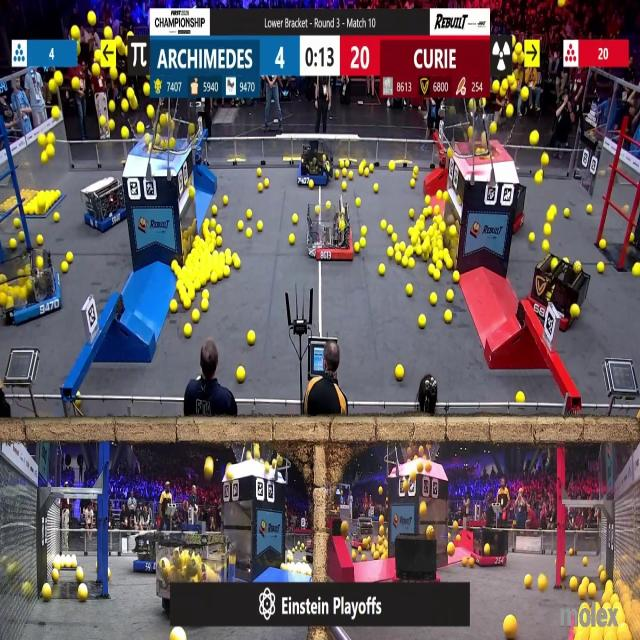ball_airborne: (205, 458, 214, 479), (530, 131, 539, 146), (48, 78, 56, 92), (90, 10, 98, 24), (534, 172, 542, 185), (71, 27, 79, 40), (56, 72, 63, 86), (420, 502, 427, 516), (46, 133, 54, 145), (72, 77, 80, 89), (93, 64, 101, 76), (38, 134, 46, 146), (51, 106, 59, 118), (492, 80, 500, 92), (540, 153, 548, 165), (147, 105, 154, 118), (46, 144, 53, 157), (120, 128, 128, 139), (109, 68, 117, 79), (104, 28, 112, 39), (516, 42, 524, 53), (131, 99, 139, 110), (121, 100, 128, 112), (541, 240, 548, 252), (522, 90, 529, 102), (118, 74, 125, 86), (543, 223, 550, 235), (143, 85, 150, 97), (490, 123, 497, 135), (546, 211, 553, 223), (108, 100, 115, 112), (506, 105, 512, 118), (253, 446, 259, 459), (128, 89, 135, 100), (161, 114, 168, 125), (41, 151, 48, 162), (100, 115, 107, 126), (108, 118, 115, 129), (226, 472, 233, 483), (96, 49, 102, 61), (154, 136, 160, 148), (170, 138, 176, 149), (138, 121, 144, 132), (425, 461, 431, 472), (402, 481, 408, 492), (145, 134, 151, 144), (501, 80, 507, 90), (188, 125, 194, 135), (115, 36, 121, 46), (558, 0, 565, 8), (514, 54, 519, 64), (419, 447, 424, 457), (418, 462, 423, 472), (482, 133, 488, 141), (507, 74, 512, 83), (468, 127, 472, 138), (483, 98, 487, 108)
ball_ground: (503, 617, 516, 639), (77, 586, 87, 602), (171, 630, 186, 640), (42, 586, 51, 602), (538, 574, 546, 590), (395, 364, 403, 380), (76, 567, 84, 582), (419, 314, 427, 328), (570, 305, 578, 319), (569, 576, 577, 590), (589, 586, 597, 600), (578, 586, 586, 600), (517, 391, 526, 403), (238, 366, 245, 381), (191, 310, 199, 323), (248, 332, 255, 346), (51, 568, 58, 582), (632, 266, 640, 278), (234, 259, 242, 271), (525, 574, 532, 587), (202, 301, 210, 312), (184, 324, 191, 336), (171, 302, 178, 314), (429, 292, 436, 304), (172, 262, 179, 274), (453, 272, 460, 284), (450, 224, 457, 236), (182, 300, 190, 310), (446, 261, 454, 271), (407, 284, 414, 295), (447, 290, 454, 301), (409, 257, 416, 268), (62, 263, 69, 274), (400, 254, 407, 265), (446, 311, 452, 323), (211, 272, 217, 284), (448, 542, 454, 554), (17, 233, 24, 243), (67, 252, 74, 262), (243, 228, 250, 238), (37, 236, 44, 246), (238, 220, 245, 230), (288, 235, 294, 246), (216, 237, 222, 248), (223, 268, 229, 279), (189, 186, 195, 197), (204, 223, 210, 234), (9, 240, 16, 249), (210, 218, 217, 227), (380, 266, 386, 276), (529, 233, 535, 243), (598, 264, 604, 274), (564, 208, 570, 218), (388, 247, 394, 257), (395, 252, 401, 262), (599, 240, 605, 250), (360, 225, 366, 235), (387, 224, 393, 234), (428, 266, 434, 276), (55, 212, 61, 222), (444, 190, 450, 200), (13, 218, 19, 228), (416, 246, 422, 256), (224, 255, 230, 265), (399, 242, 405, 252), (435, 262, 441, 272), (413, 168, 419, 178), (408, 246, 414, 256), (194, 280, 200, 290), (358, 165, 364, 175), (470, 558, 476, 568), (435, 191, 442, 199), (425, 208, 432, 216), (588, 205, 594, 214), (203, 289, 209, 298), (246, 210, 252, 219), (292, 214, 298, 223), (315, 206, 321, 215), (342, 184, 348, 193), (257, 183, 263, 192), (372, 186, 378, 195), (381, 220, 387, 229), (424, 197, 430, 206), (433, 207, 439, 216), (418, 220, 424, 229), (630, 234, 636, 243), (434, 271, 439, 281), (355, 243, 360, 253), (216, 224, 221, 234), (336, 170, 341, 180), (387, 160, 392, 170), (441, 222, 446, 232), (445, 248, 450, 258), (25, 205, 30, 215), (391, 235, 397, 243), (325, 202, 331, 210), (257, 221, 262, 230), (356, 199, 361, 208), (212, 206, 217, 215), (410, 209, 415, 218), (411, 179, 416, 188), (222, 197, 227, 206), (462, 558, 467, 567), (224, 249, 230, 256), (204, 218, 210, 225), (256, 169, 261, 177), (560, 568, 565, 576), (307, 184, 312, 192), (266, 178, 270, 188), (584, 558, 589, 566), (394, 244, 399, 252), (345, 162, 350, 170), (176, 281, 181, 289), (360, 239, 364, 248), (348, 171, 352, 180), (352, 552, 356, 561), (108, 569, 112, 578), (361, 555, 366, 562), (409, 227, 414, 234), (364, 170, 368, 177), (368, 166, 372, 173), (456, 535, 460, 541), (569, 550, 572, 557)
goal: (462, 118, 518, 160)
robot_blue: (1, 252, 64, 326), (82, 177, 127, 234), (298, 140, 335, 187), (133, 534, 159, 574)
robot_red: (530, 256, 590, 333), (307, 210, 353, 262), (474, 528, 510, 568), (350, 520, 376, 549)
